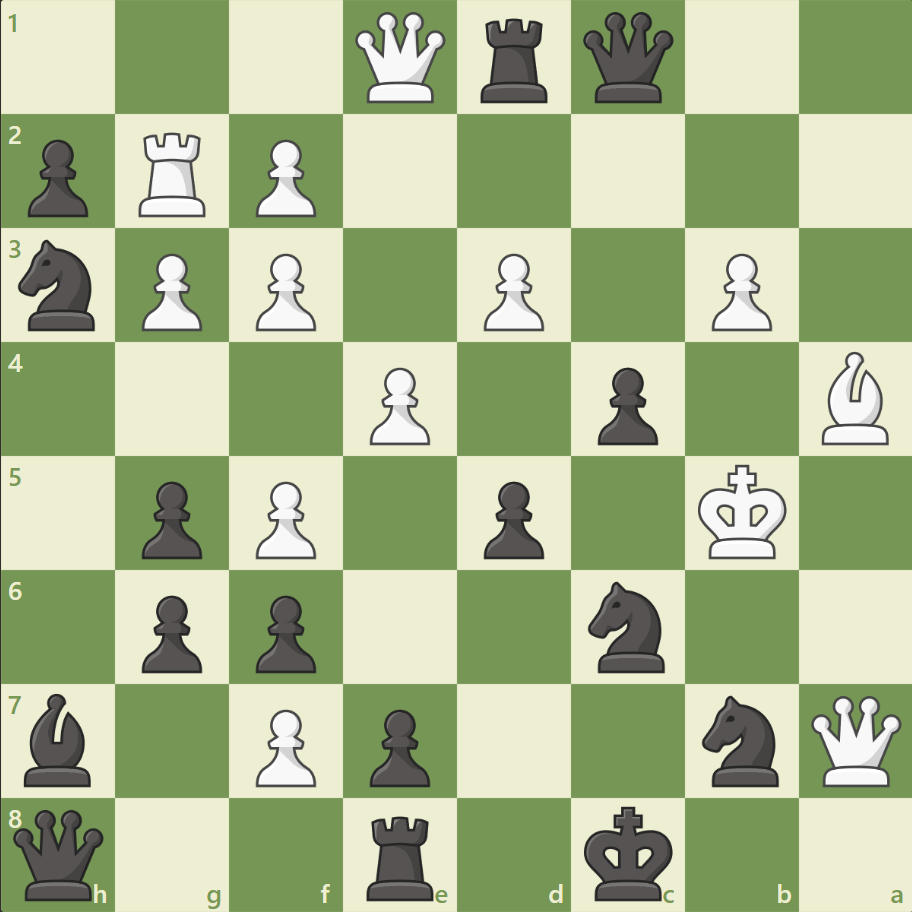B: (812, 347, 896, 449)
K: (692, 458, 792, 566)
P: (247, 700, 322, 791), (247, 473, 322, 564), (701, 246, 776, 337), (474, 246, 549, 337), (247, 246, 322, 337), (133, 246, 208, 337), (247, 132, 322, 223), (361, 359, 435, 450)
Q: (805, 690, 904, 789), (351, 9, 450, 108)
R: (133, 125, 215, 222)
b: (17, 687, 101, 790)
k: (579, 798, 679, 906)
n: (692, 688, 789, 791), (11, 234, 108, 337), (579, 575, 676, 677)
p: (247, 586, 322, 677), (133, 586, 208, 677), (474, 473, 549, 564), (133, 473, 208, 564), (20, 132, 95, 223), (361, 700, 435, 791), (588, 359, 662, 450)
q: (10, 804, 109, 903), (578, 9, 677, 108)
r: (473, 12, 556, 109), (360, 806, 442, 904)
